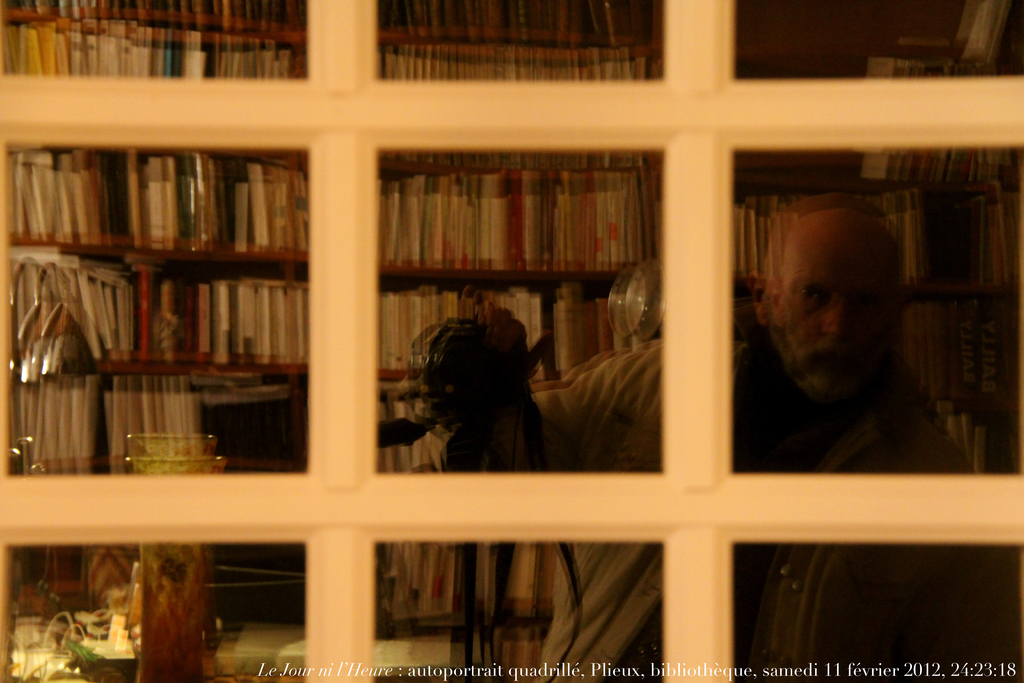Human-face: (776, 217, 904, 374)
